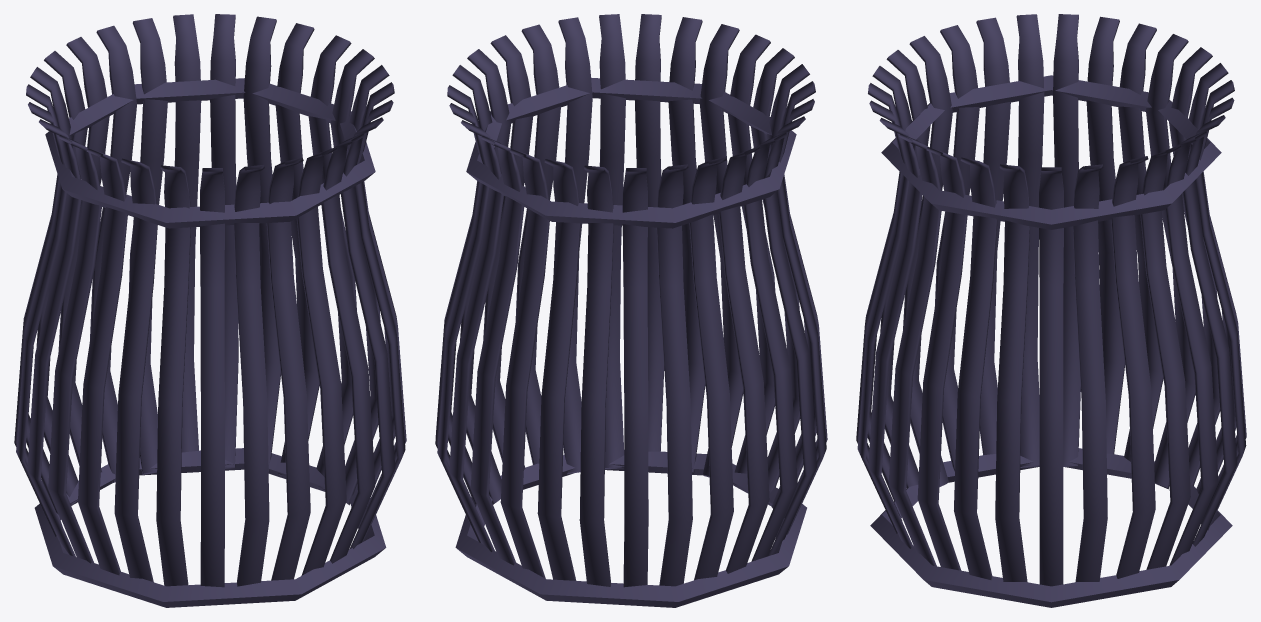
File: POubelle.fbx
3 renders of one model, left to right at view 1: azimuth 30°, elevation 25°; view 2: azimuth 150°, elevation 25°; view 3: azimuth 270°, elevation 25°, orthographic.
Parts seen in each view (by area): view 1: BézierCircle.001; view 2: BézierCircle.001; view 3: BézierCircle.001.
Boxes of the visible parts, box(x1,y1,x2,y2) form: BézierCircle.001: box(14, 14, 406, 607); BézierCircle.001: box(435, 14, 827, 607); BézierCircle.001: box(856, 14, 1246, 607).
Size of the model in its own units: 103 by 129 by 103.
